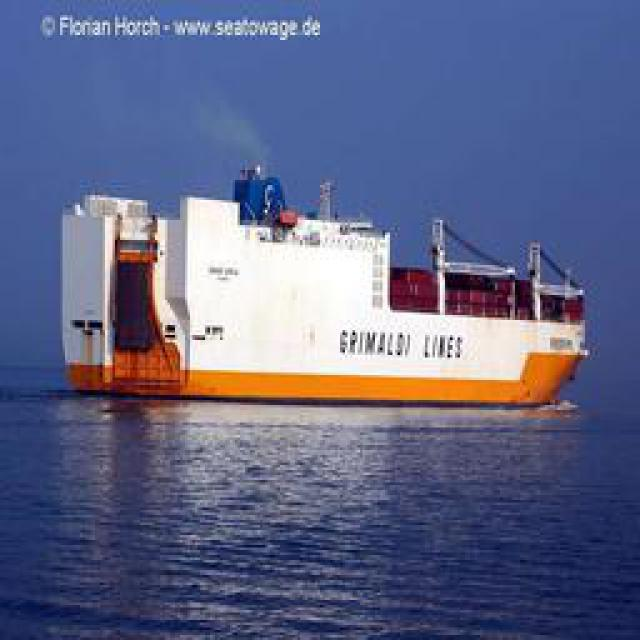Ship: (47, 175, 590, 400)
